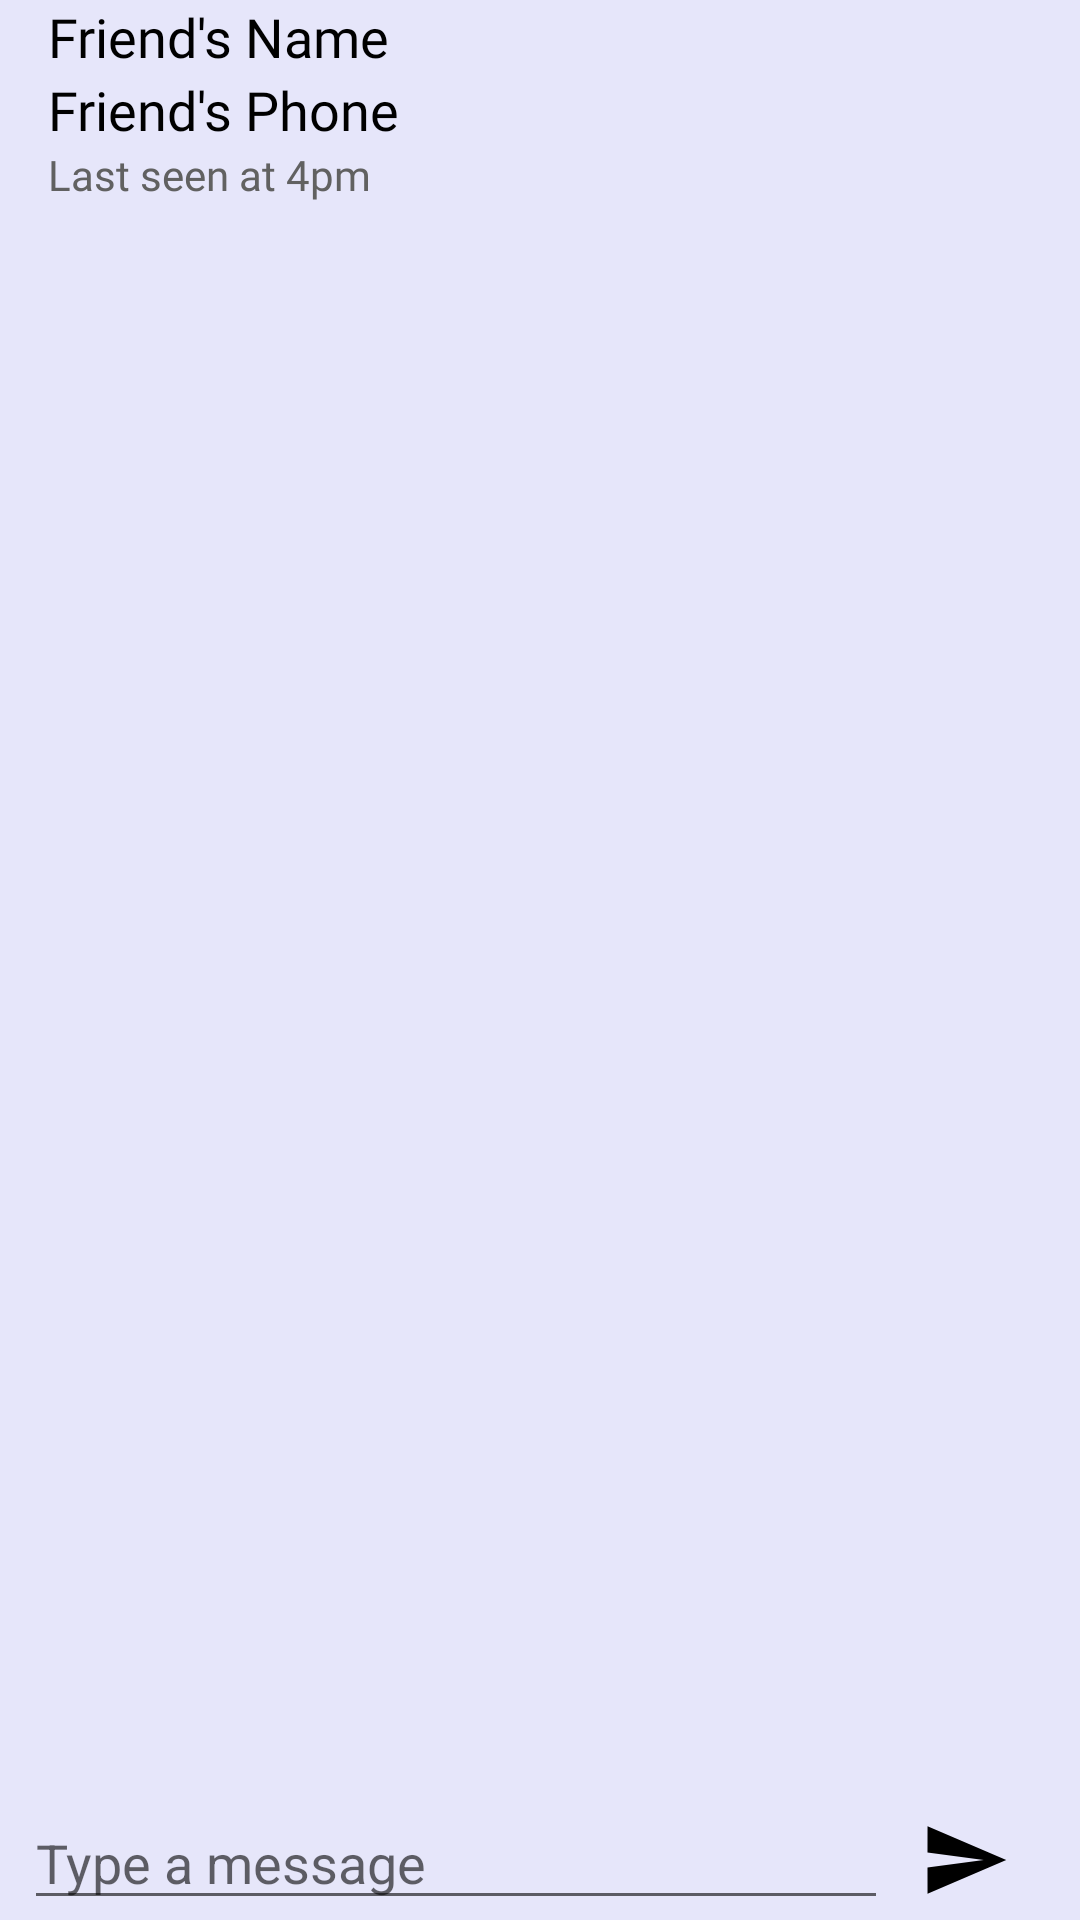

Where to tap for icons on this 1080w x 1920h app screen, as (x=x, y=y):
send: (x=966, y=1860)
